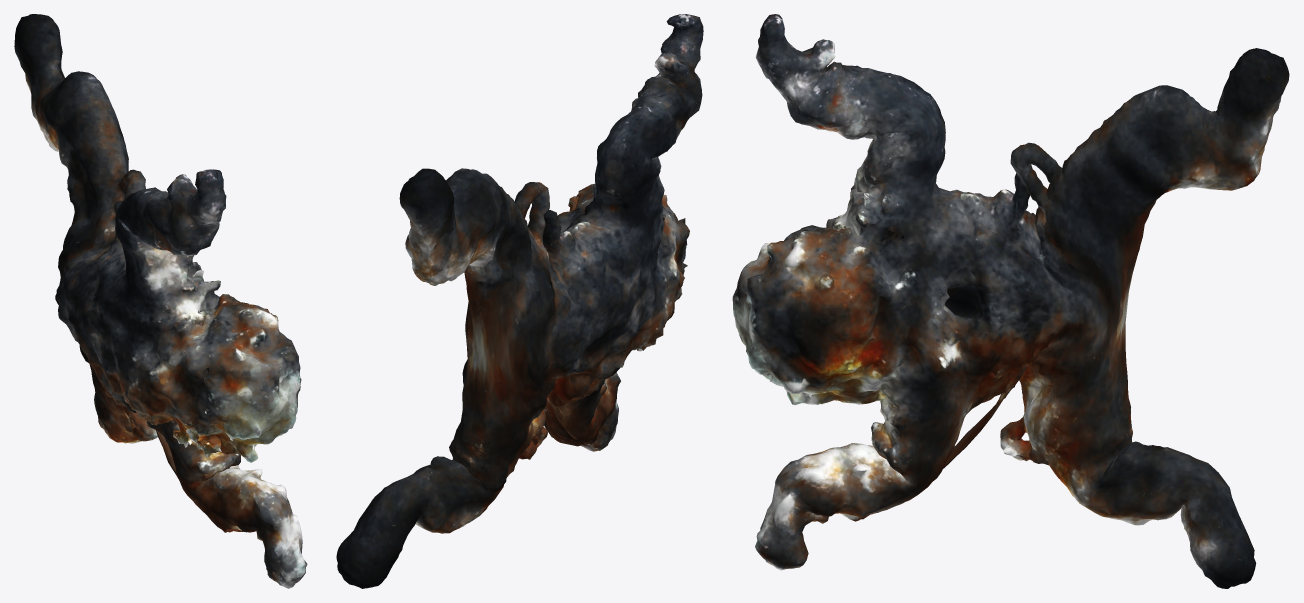
File: astronaut_pose2.glb
3 views of the same model, side by side, from view 1: azimuth 30°, elevation 25°; view 2: azimuth 150°, elevation 25°; view 3: azimuth 270°, elevation 25° (orthographic). The views are drawn at different scales.
Visible parts, largest first — view 1: pose2; view 2: pose2; view 3: pose2.
Part boxes in pixels (bbox=[...]): pose2: bbox=[14, 14, 307, 588]; pose2: bbox=[336, 14, 703, 588]; pose2: bbox=[732, 14, 1289, 588].
Size of the model in its own units: 0.3736 by 0.8952 by 0.8951.
Materials: 1 (1 with a texture image).
